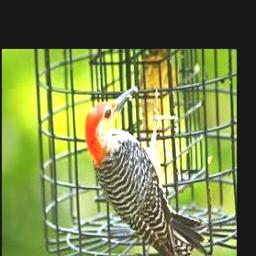Woodpecker: (84, 85, 205, 256)
